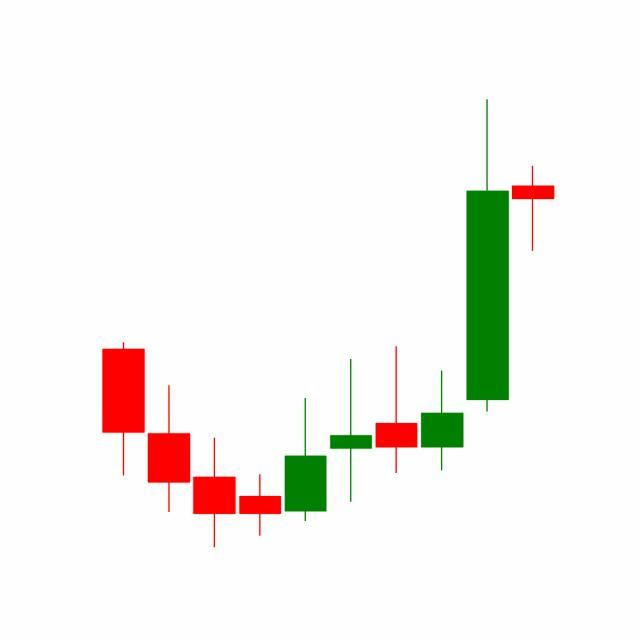Hikkake Pattern: (283, 100, 512, 527)
